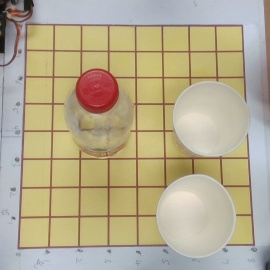bottle: (63, 68, 133, 164)
cup: (148, 173, 235, 259), (162, 81, 249, 159)
